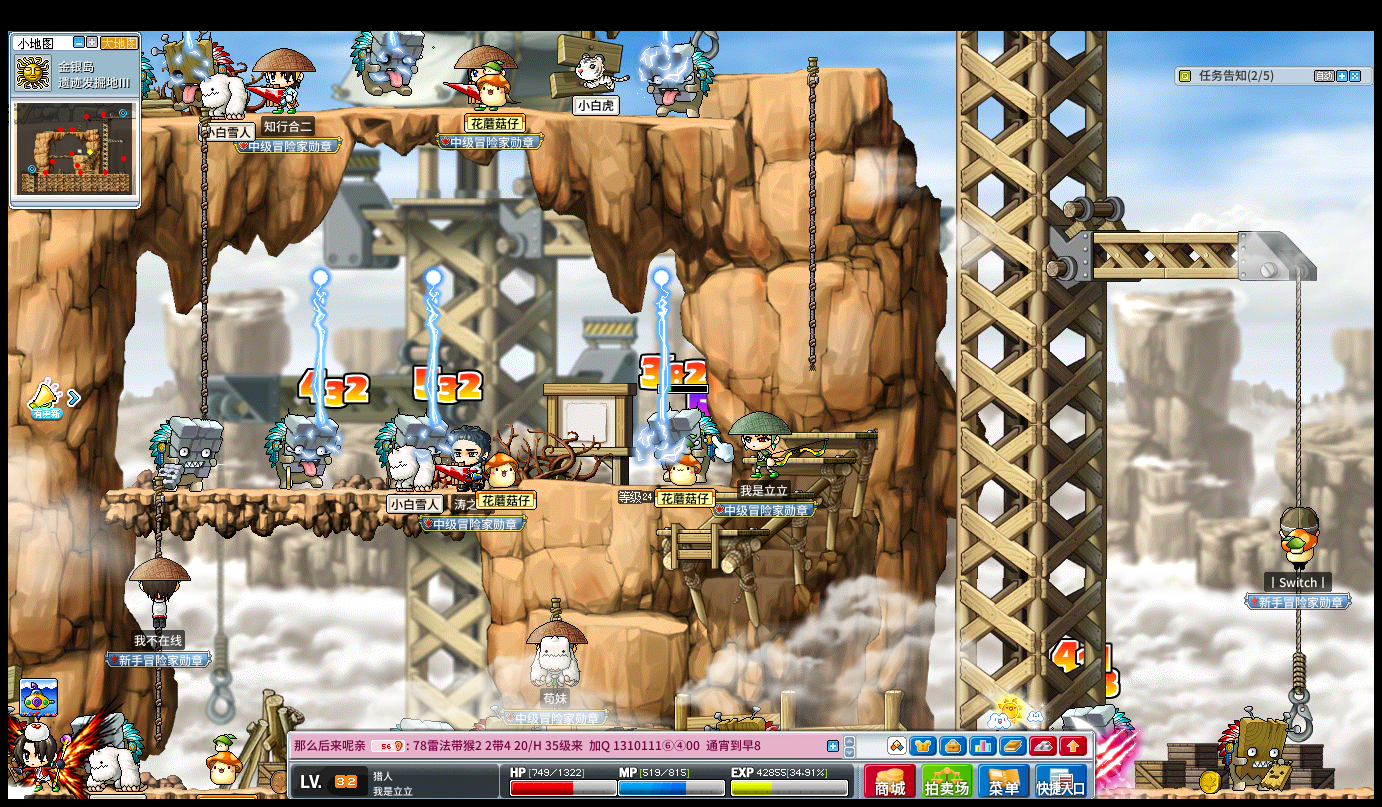floor: (136, 102, 752, 130), (105, 486, 483, 499), (1095, 228, 1285, 243), (716, 64, 886, 78), (581, 611, 687, 633), (590, 481, 814, 490), (589, 481, 755, 490), (705, 489, 822, 499), (782, 429, 877, 439), (655, 530, 767, 538), (712, 491, 820, 499), (771, 454, 857, 464), (776, 453, 861, 460)
monster: (1217, 709, 1297, 790), (262, 413, 341, 491), (351, 26, 425, 106), (148, 415, 223, 493), (640, 39, 713, 119), (373, 413, 437, 486), (644, 407, 717, 470)
rope: (807, 54, 821, 374), (198, 108, 210, 423), (1291, 272, 1304, 486), (1292, 609, 1304, 694), (151, 480, 164, 556), (153, 665, 164, 749), (1291, 440, 1304, 506)
